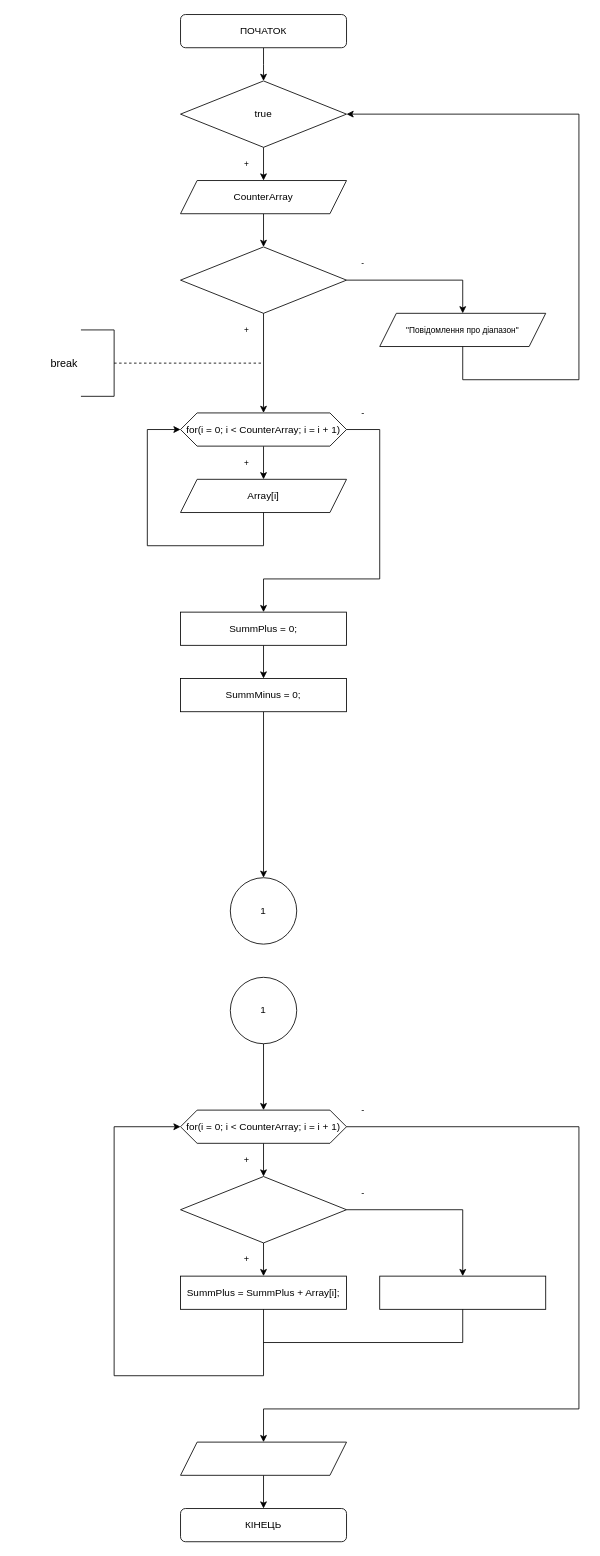
This 600x1556 diagram has some shape labels left out. Each missing label, with the centre of its shape:
(CounterArray >= 5) && (CounterArray <= 100): point (263, 279)
Array[i] > 0: point (263, 1209)
SummMinus = SummMinus + Array[i];: point (462, 1292)
SummPlus, SummMinus, fabs(SummPlus) -fabs(SummMinus): point (263, 1458)
